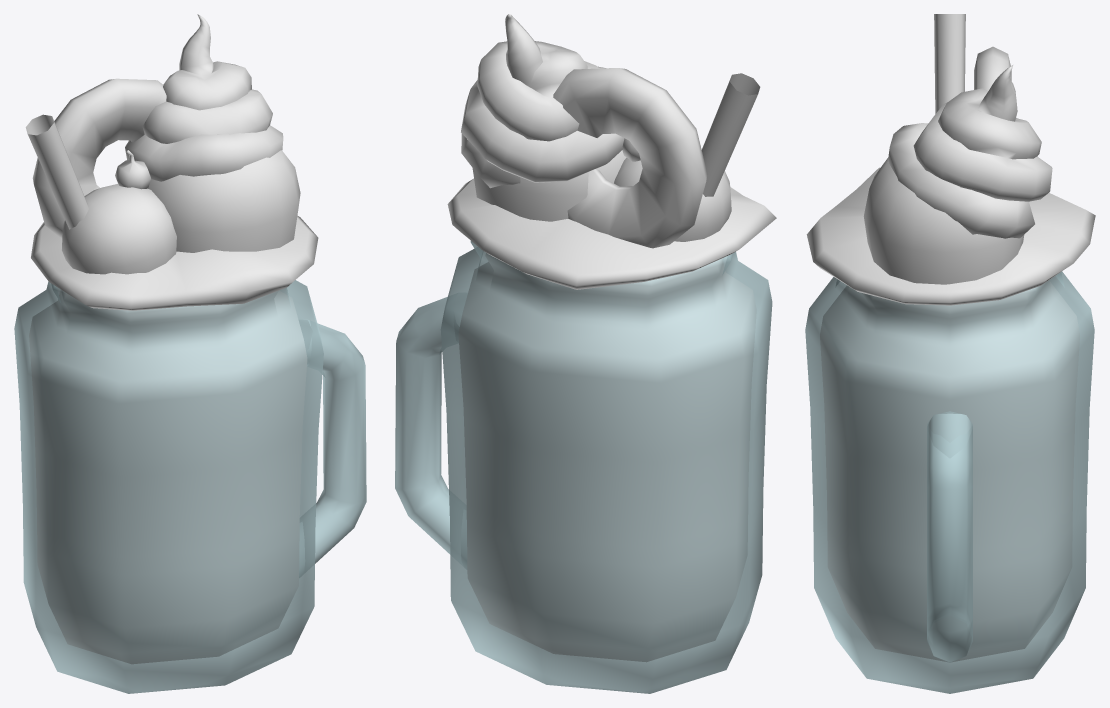
File: M_Freakshake2.fbx
3 views of the same model, side by side, from view 1: azimuth 30°, elevation 25°; view 2: azimuth 150°, elevation 25°; view 3: azimuth 270°, elevation 25° (orthographic). The views are drawn at different scales.
Parts seen in each view (by area): view 1: Freakshake2, Freakshake2.001; view 2: Freakshake2, Freakshake2.001; view 3: Freakshake2, Freakshake2.001.
Part boxes in pixels (bbox=[...]): Freakshake2: bbox=[25, 14, 318, 663]; Freakshake2.001: bbox=[14, 280, 366, 693]; Freakshake2: bbox=[447, 14, 776, 661]; Freakshake2.001: bbox=[395, 241, 772, 693]; Freakshake2: bbox=[806, 14, 1095, 661]; Freakshake2.001: bbox=[805, 271, 1094, 693].
Bounding box in the file's own units: 26.6 × 46.16 × 19.53.
